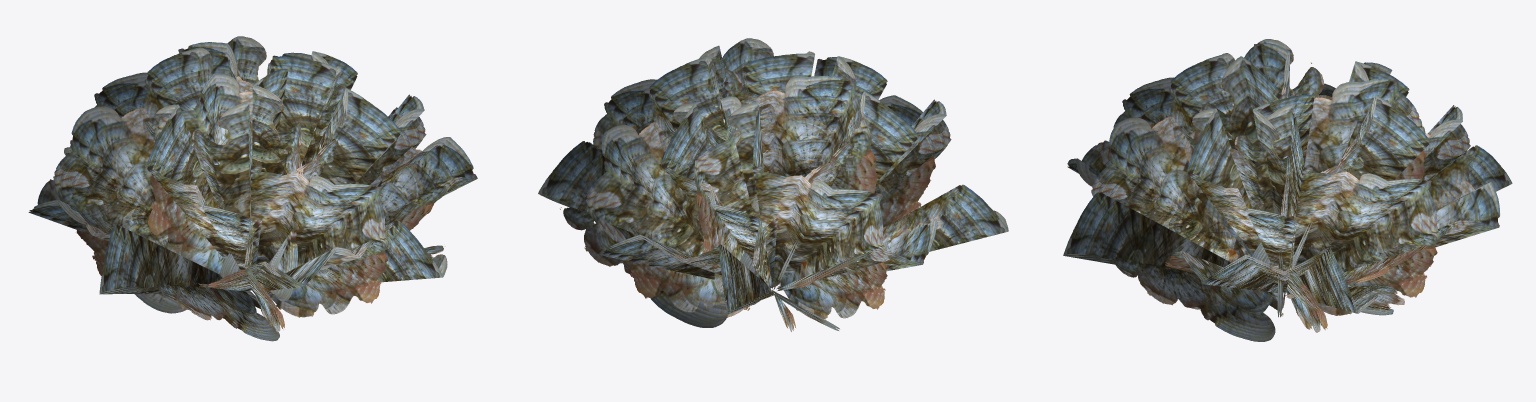
File: RippleSponge.fbx
The picture shows the model from 3 angles, left to right: view 1: azimuth 30°, elevation 25°; view 2: azimuth 150°, elevation 25°; view 3: azimuth 270°, elevation 25°; orthographic projection.
Parts seen in each view (by area): view 1: RippleSponge; view 2: RippleSponge; view 3: RippleSponge.
Boxes of the visible parts, left/top/right/bottom form: RippleSponge: left=28, top=36, right=477, bottom=341; RippleSponge: left=538, top=38, right=1008, bottom=331; RippleSponge: left=1063, top=39, right=1512, bottom=341.
Bounding box in the file's own units: 45.51 × 31.14 × 45.03.
